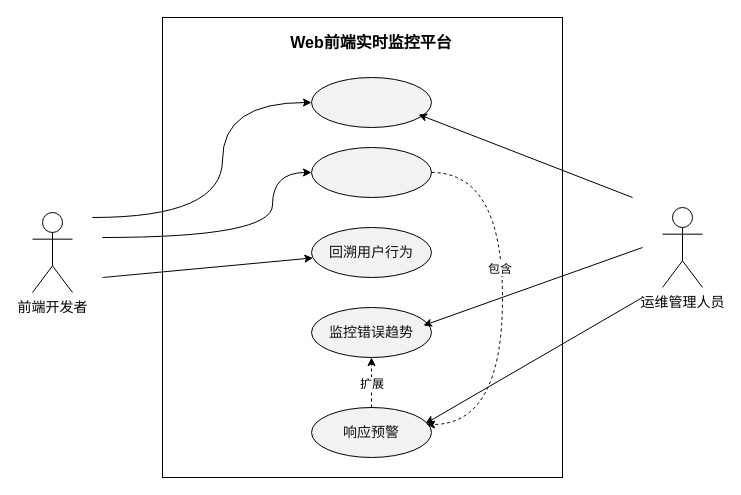
Image size: 741x495. Some labels were removed from this diagram. The shapes that lost their labels are listed below. From the top down, each one's centre as x and y in pixels, then its label:
At (x=371, y=102): "性能总览".
At (x=371, y=172): "查看错误详情".
